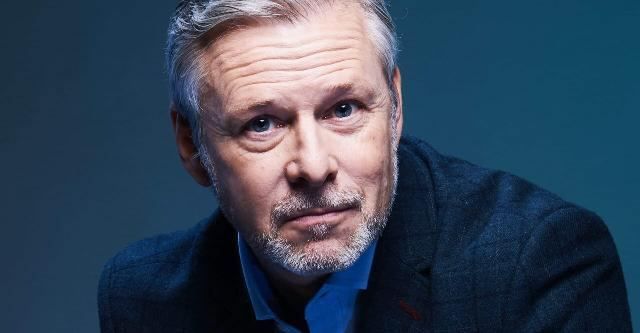crows_feet: (362, 93, 386, 115), (211, 123, 231, 143)
forehead: (226, 49, 268, 84), (276, 44, 312, 84), (318, 38, 354, 78)
